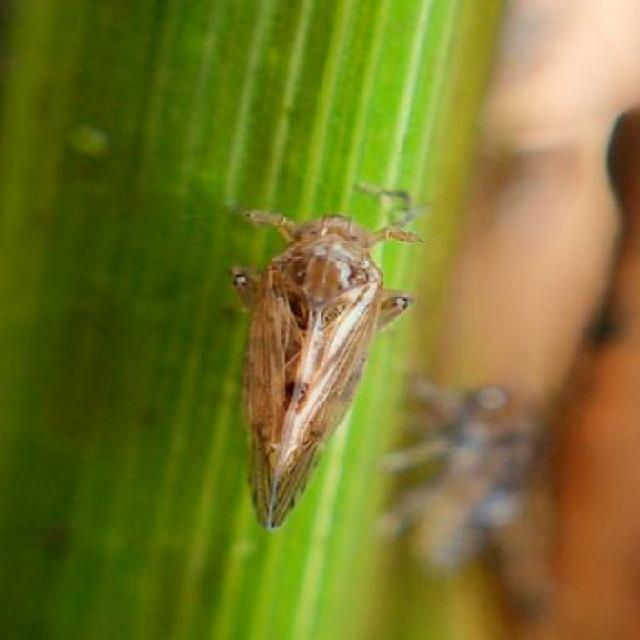wereng pada daun padi: (222, 180, 426, 531)
